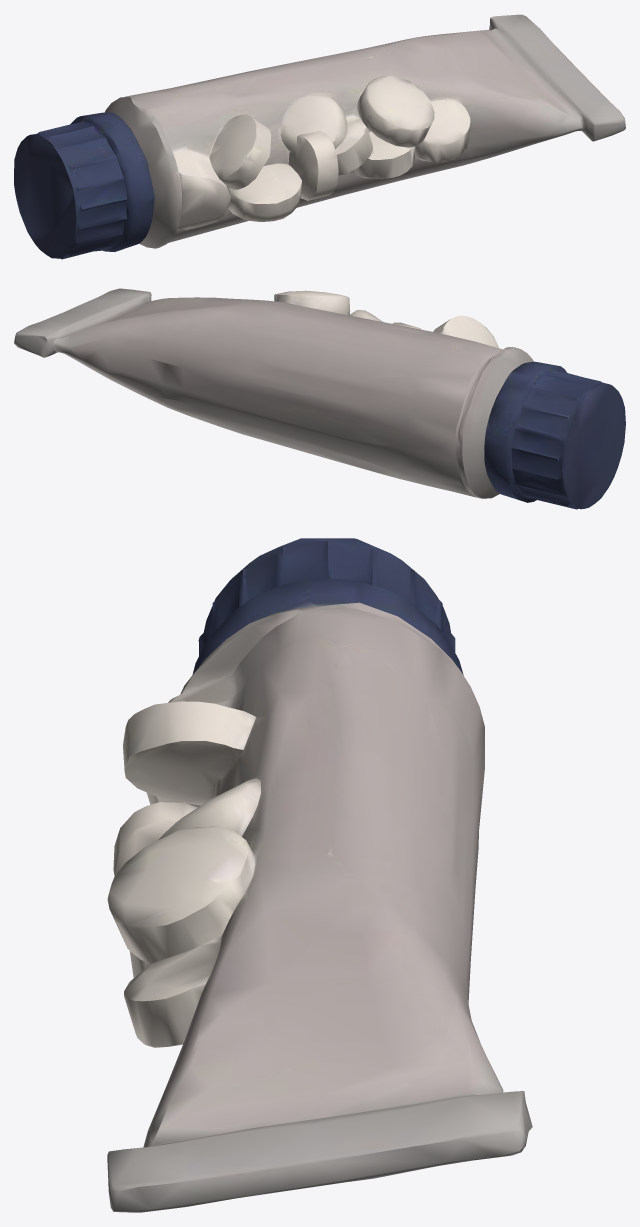
Rendered from antibiotics_shirokogo_spektra_idle.glb.
The picture shows the model from 3 angles, top to bottom: view 1: azimuth 30°, elevation 25°; view 2: azimuth 150°, elevation 25°; view 3: azimuth 270°, elevation 25°; orthographic projection. The views are drawn at different scales.
Visible parts, largest first — view 1: tripo_node_74dae2b4-8e39-4463-bbc8-97b2de53fd9b; view 2: tripo_node_74dae2b4-8e39-4463-bbc8-97b2de53fd9b; view 3: tripo_node_74dae2b4-8e39-4463-bbc8-97b2de53fd9b.
Boxes of the visible parts, x1,y1,x2,y2 form: tripo_node_74dae2b4-8e39-4463-bbc8-97b2de53fd9b: (14, 14, 625, 259); tripo_node_74dae2b4-8e39-4463-bbc8-97b2de53fd9b: (14, 288, 625, 509); tripo_node_74dae2b4-8e39-4463-bbc8-97b2de53fd9b: (107, 538, 532, 1212).
Bounding box in the file's own units: 0.08 × 0.0202 × 0.0279.
Materials: 1 (1 with a texture image).
